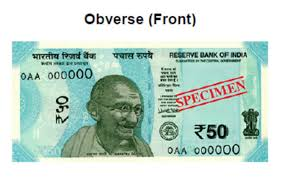fifty: (20, 64, 245, 147)
